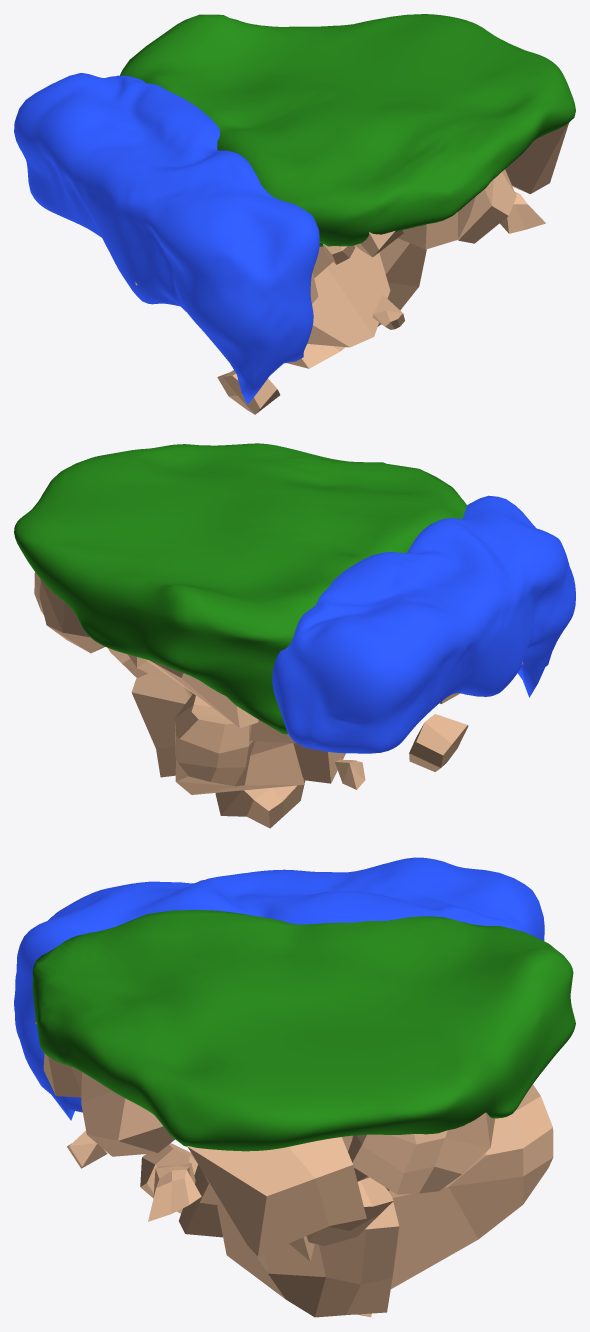
Rendered from Insel.fbx.
The picture shows the model from 3 angles, top to bottom: view 1: azimuth 30°, elevation 25°; view 2: azimuth 150°, elevation 25°; view 3: azimuth 270°, elevation 25°; orthographic projection. The views are drawn at different scales.
Visible parts, largest first — view 1: Rasen, Fluss, Stone.015, Stone.010, Stone.018, Stone.024, Stone, Stone.009, Stone.020, Stone.002, Stone.012, Stone.023; view 2: Rasen, Fluss, Stone.004, Stone.018, Stone.002, Stone.009, Stone.003, Stone.008, Stone.015, Stone.001, Stone.007; view 3: Rasen, Fluss, Stone.004, Stone.010, Stone.018, Stone.003, Stone.024, Stone.020, Stone.006, Stone.015, Stone.009, Stone (+1 smaller).
Boxes of the visible parts, x1=… form: Rasen: x1=120, y1=14, x2=575, y2=246; Fluss: x1=14, y1=73, x2=319, y2=404; Stone.015: x1=307, y1=245, x2=390, y2=347; Stone.010: x1=505, y1=122, x2=569, y2=194; Stone.018: x1=377, y1=238, x2=426, y2=326; Stone.024: x1=458, y1=169, x2=516, y2=243; Stone: x1=398, y1=196, x2=475, y2=249; Stone.009: x1=217, y1=370, x2=280, y2=414; Stone.020: x1=500, y1=192, x2=545, y2=233; Stone.002: x1=286, y1=344, x2=345, y2=368; Stone.012: x1=372, y1=295, x2=404, y2=329; Stone.023: x1=355, y1=230, x2=403, y2=257; Rasen: x1=14, y1=443, x2=467, y2=734; Fluss: x1=272, y1=495, x2=575, y2=753; Stone.004: x1=175, y1=693, x2=304, y2=794; Stone.018: x1=131, y1=673, x2=190, y2=777; Stone.002: x1=215, y1=778, x2=305, y2=828; Stone.009: x1=409, y1=714, x2=468, y2=771; Stone.003: x1=34, y1=572, x2=104, y2=653; Stone.008: x1=144, y1=659, x2=258, y2=728; Stone.015: x1=293, y1=743, x2=345, y2=783; Stone.001: x1=335, y1=759, x2=365, y2=789; Stone.007: x1=249, y1=720, x2=296, y2=743; Rasen: x1=32, y1=910, x2=575, y2=1151; Fluss: x1=14, y1=857, x2=544, y2=1120; Stone.004: x1=388, y1=1084, x2=553, y2=1288; Stone.010: x1=187, y1=1135, x2=366, y2=1256; Stone.018: x1=203, y1=1173, x2=399, y2=1317; Stone.003: x1=348, y1=1112, x2=495, y2=1194; Stone.024: x1=81, y1=1072, x2=174, y2=1156; Stone.020: x1=148, y1=1162, x2=201, y2=1221; Stone.006: x1=306, y1=1177, x2=393, y2=1245; Stone.015: x1=179, y1=1165, x2=222, y2=1237; Stone.009: x1=140, y1=1143, x2=197, y2=1213; Stone: x1=43, y1=1053, x2=81, y2=1097.
Size of the model in its own units: 5846 by 3537 by 5171.
